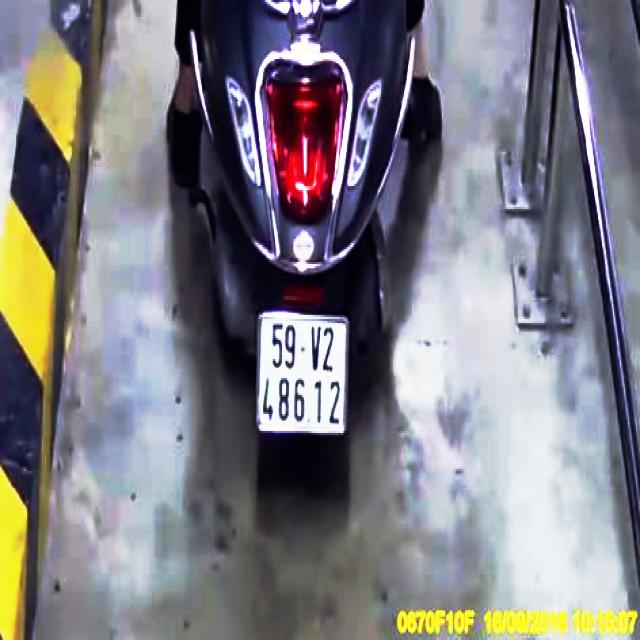license_plate: (261, 316, 348, 428)
